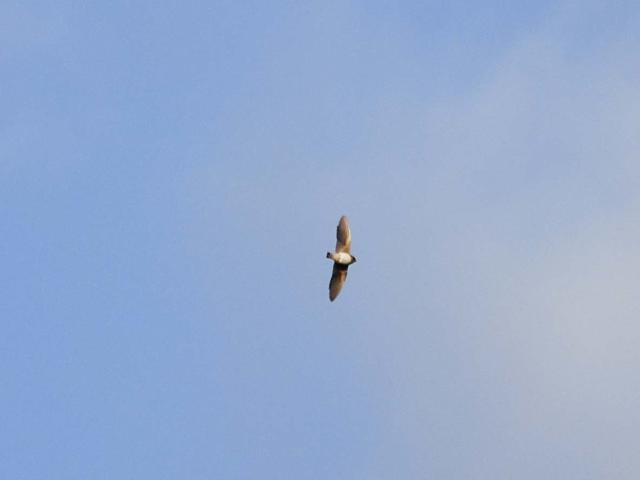Bird: (328, 212, 360, 300)
